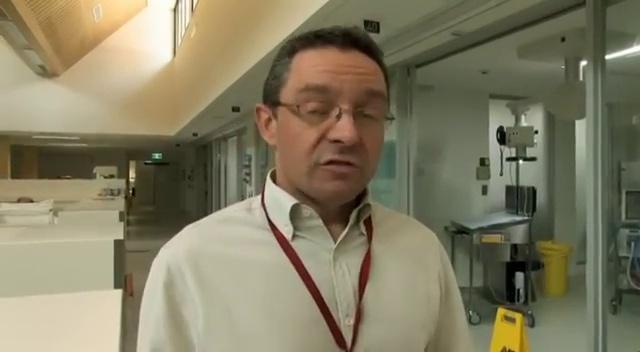others: (133, 24, 475, 351)
